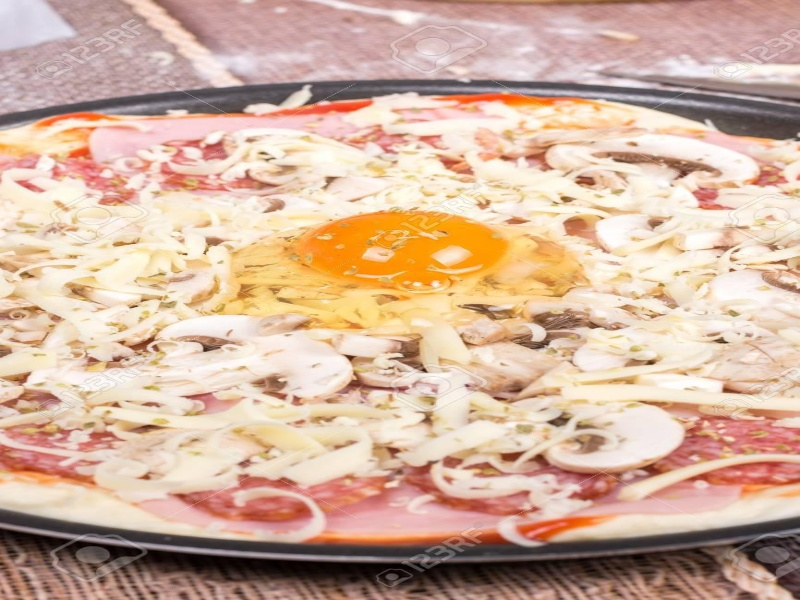champignon: (149, 313, 361, 411), (555, 128, 769, 202), (533, 393, 693, 477)
oeuf: (301, 199, 530, 309)
